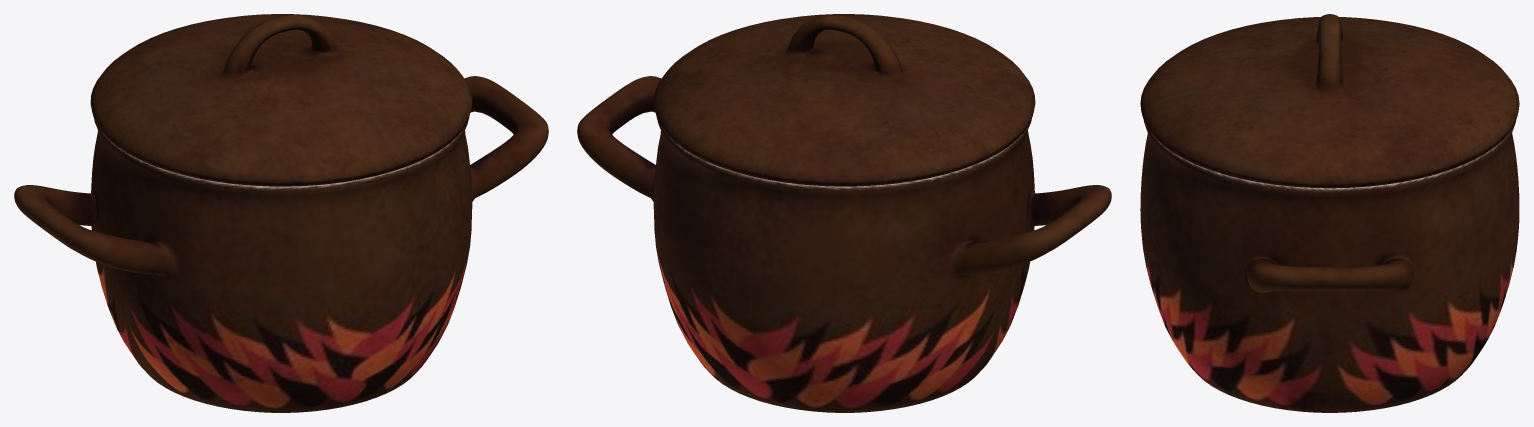
Rendered from pot_enamel_01.glb.
The picture shows the model from 3 angles, left to right: view 1: azimuth 30°, elevation 25°; view 2: azimuth 150°, elevation 25°; view 3: azimuth 270°, elevation 25°; orthographic projection.
Parts seen in each view (by area): view 1: pot_enamel_01_base, pot_enamel_01_lid; view 2: pot_enamel_01_base, pot_enamel_01_lid; view 3: pot_enamel_01_base, pot_enamel_01_lid.
Part boxes in pixels (x1,y1,x2,y2): pot_enamel_01_base: [14, 76, 548, 412]; pot_enamel_01_lid: [90, 14, 472, 186]; pot_enamel_01_base: [577, 76, 1111, 412]; pot_enamel_01_lid: [653, 14, 1035, 186]; pot_enamel_01_base: [1140, 121, 1519, 412]; pot_enamel_01_lid: [1140, 14, 1519, 188].
Bounding box in the file's own units: 0.2629 × 0.1783 × 0.1805.
1 material, 1 textured.
